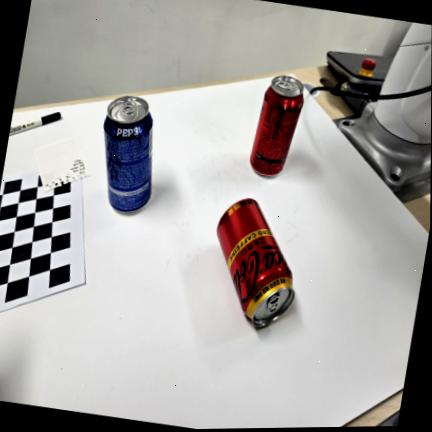can_coke_decaf: (217, 201, 294, 326)
can_coke_zero: (248, 74, 304, 177)
can_pepsi: (103, 95, 154, 213)
